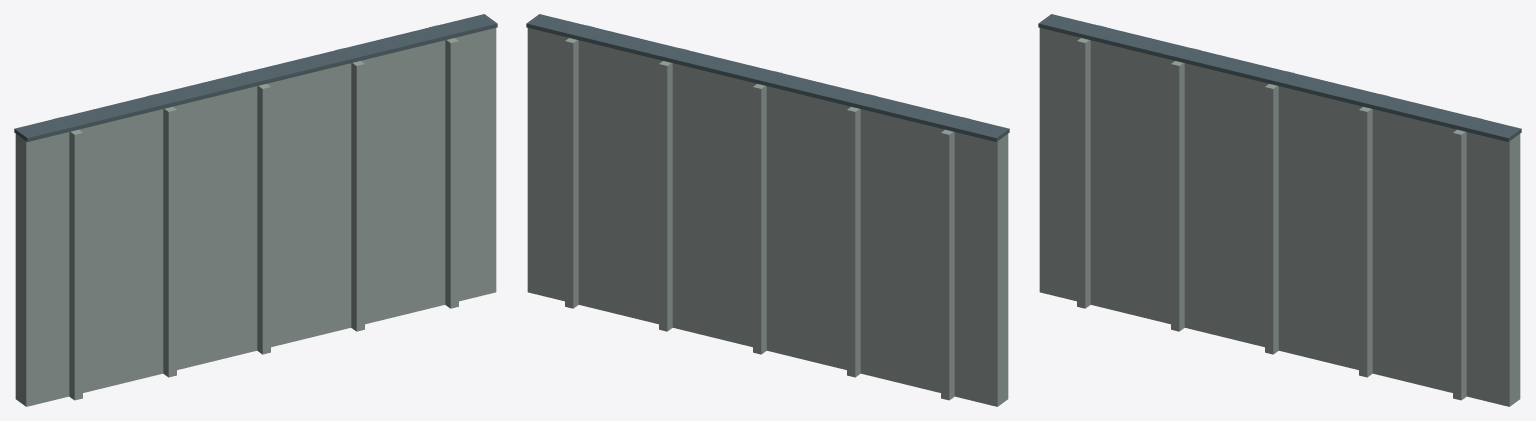
Rendered from bulk_divider_5m.glb.
3 renders of one model, left to right at view 1: azimuth 30°, elevation 25°; view 2: azimuth 150°, elevation 25°; view 3: azimuth 330°, elevation 25°, orthographic.
Parts seen in each view (by area): view 1: Transverse bulkhead, Hatch meeting seat, Bulkhead stiffener.004, Bulkhead stiffener, Bulkhead stiffener.002, Bulkhead stiffener.008, Bulkhead stiffener.006; view 2: Transverse bulkhead, Hatch meeting seat, Bulkhead stiffener.005, Bulkhead stiffener.001, Bulkhead stiffener.003, Bulkhead stiffener.009, Bulkhead stiffener.007; view 3: Transverse bulkhead, Hatch meeting seat, Bulkhead stiffener.004, Bulkhead stiffener.006, Bulkhead stiffener.008, Bulkhead stiffener, Bulkhead stiffener.002.
Boxes of the visible parts, x1,y1,x2,y2 form: Transverse bulkhead: (15, 28, 496, 406); Hatch meeting seat: (14, 14, 497, 141); Bulkhead stiffener.004: (257, 84, 270, 354); Bulkhead stiffener: (69, 129, 82, 400); Bulkhead stiffener.002: (163, 106, 176, 377); Bulkhead stiffener.008: (445, 38, 458, 308); Bulkhead stiffener.006: (351, 61, 364, 331); Transverse bulkhead: (527, 28, 1008, 406); Hatch meeting seat: (526, 14, 1009, 141); Bulkhead stiffener.005: (753, 84, 766, 354); Bulkhead stiffener.001: (941, 129, 954, 400); Bulkhead stiffener.003: (847, 106, 860, 377); Bulkhead stiffener.009: (565, 38, 578, 308); Bulkhead stiffener.007: (659, 61, 672, 331); Transverse bulkhead: (1039, 28, 1520, 406); Hatch meeting seat: (1038, 14, 1521, 141); Bulkhead stiffener.004: (1265, 84, 1278, 354); Bulkhead stiffener.006: (1359, 106, 1372, 377); Bulkhead stiffener.008: (1453, 129, 1466, 400); Bulkhead stiffener: (1077, 38, 1090, 308); Bulkhead stiffener.002: (1171, 61, 1184, 331).
Size of the model in its own units: 5 by 2.74 by 0.4.
